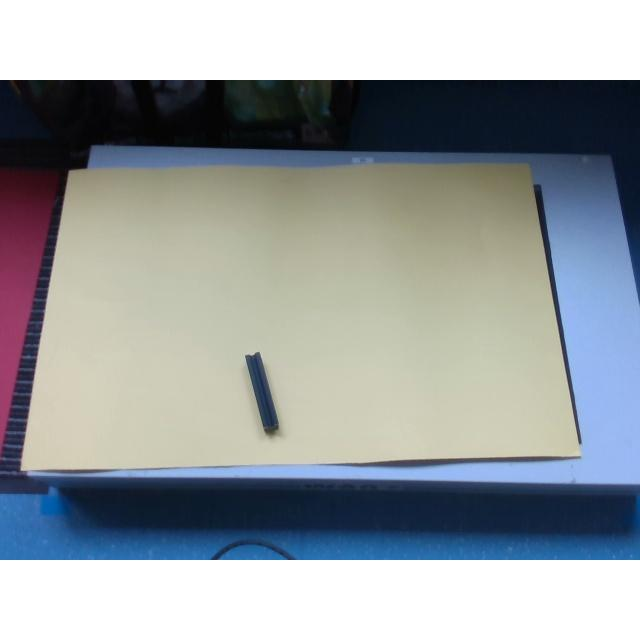F20_20_B: (244, 351, 280, 434)
